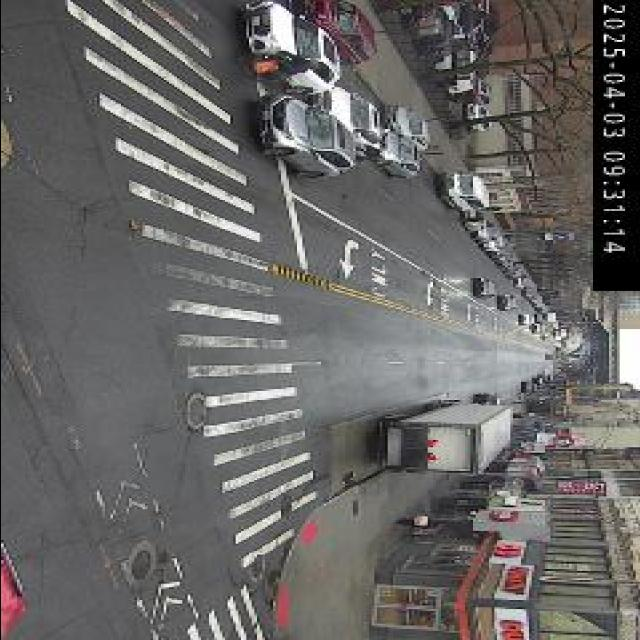open parking: (332, 29, 419, 123), (402, 124, 457, 220)
